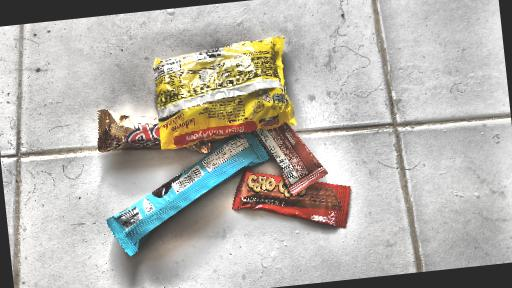chocho: (234, 158, 351, 242)
dilan: (85, 132, 272, 257)
indomie: (145, 39, 301, 147)
top: (91, 92, 211, 169)
